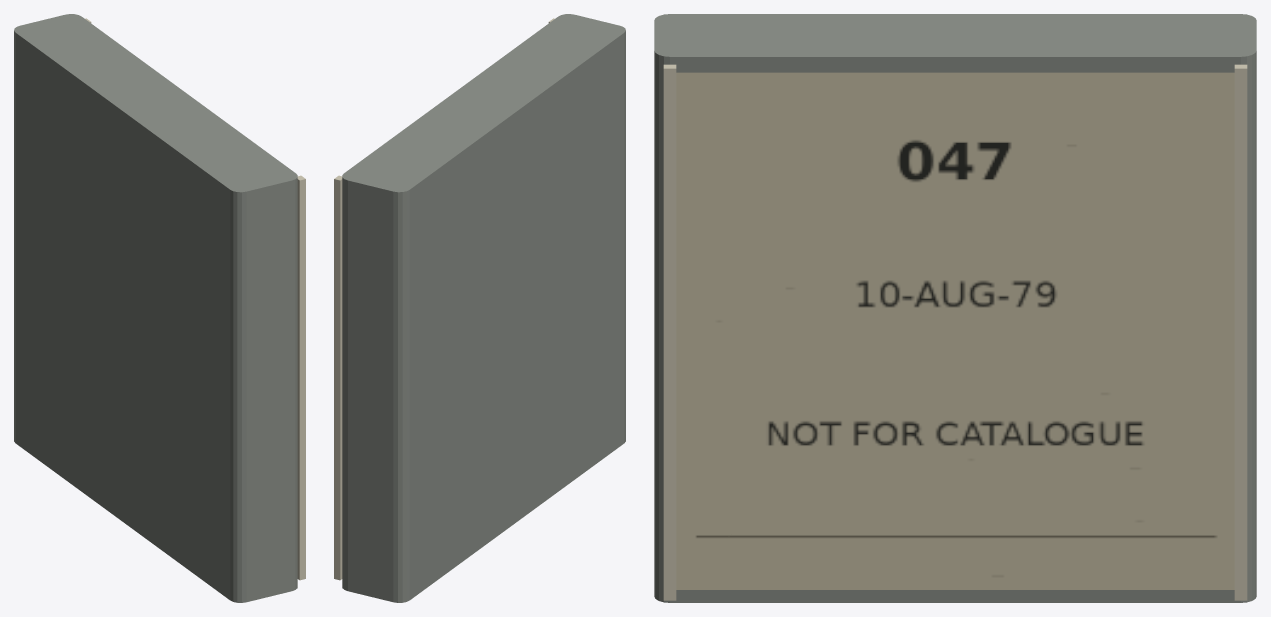
File: SM_ArchiveProps_Reel047Box.fbx
3 views of the same model, side by side, from view 1: azimuth 30°, elevation 25°; view 2: azimuth 150°, elevation 25°; view 3: azimuth 270°, elevation 25° (orthographic). The views are drawn at different scales.
Visible parts, largest first — view 1: SM_ArchiveProps_Reel047Box; view 2: SM_ArchiveProps_Reel047Box; view 3: SM_ArchiveProps_Reel047Box.
Part boxes in pixels (<box>): SM_ArchiveProps_Reel047Box: <box>14,14,305,602</box>; SM_ArchiveProps_Reel047Box: <box>334,14,625,602</box>; SM_ArchiveProps_Reel047Box: <box>654,14,1256,602</box>.
Size of the model in its own units: 0.0355 by 0.19 by 0.19.
